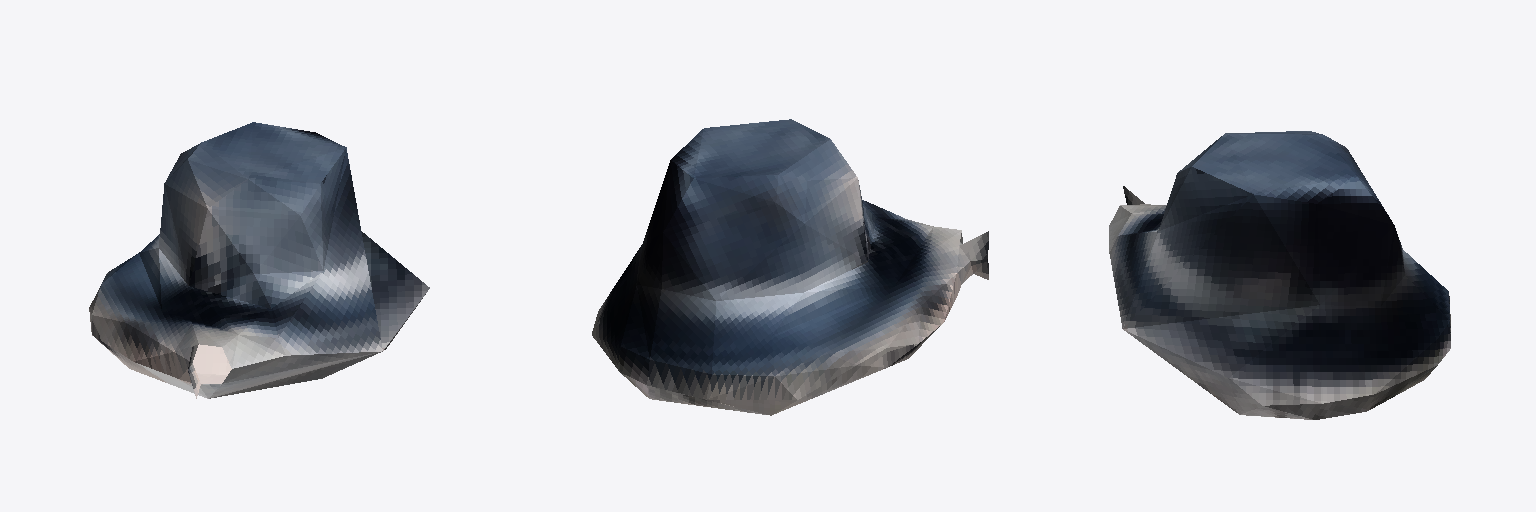
The picture shows the model from 3 angles: view 1: azimuth 30°, elevation 25°; view 2: azimuth 150°, elevation 25°; view 3: azimuth 270°, elevation 25°; orthographic projection.
Bounding box in the file's own units: 2.93 × 1.94 × 2.85.
3 materials, 3 textured.